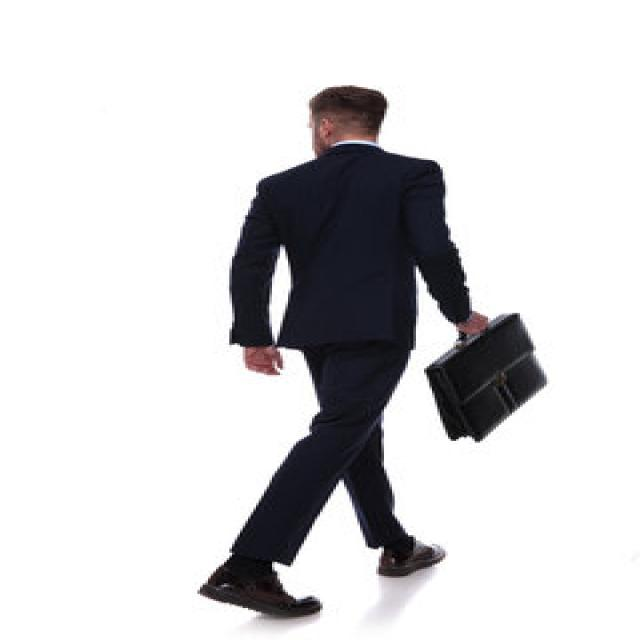Person: (199, 85, 549, 620)
